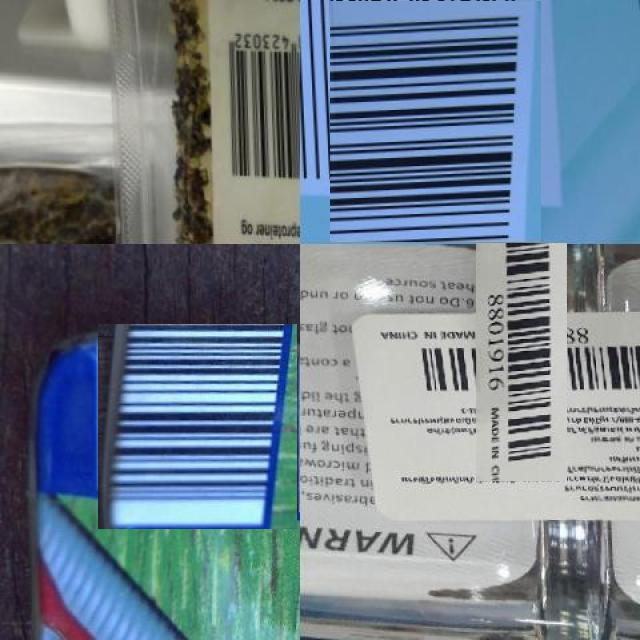Barcode: (314, 0, 556, 227), (96, 325, 299, 528), (438, 280, 604, 444), (213, 4, 300, 200)
